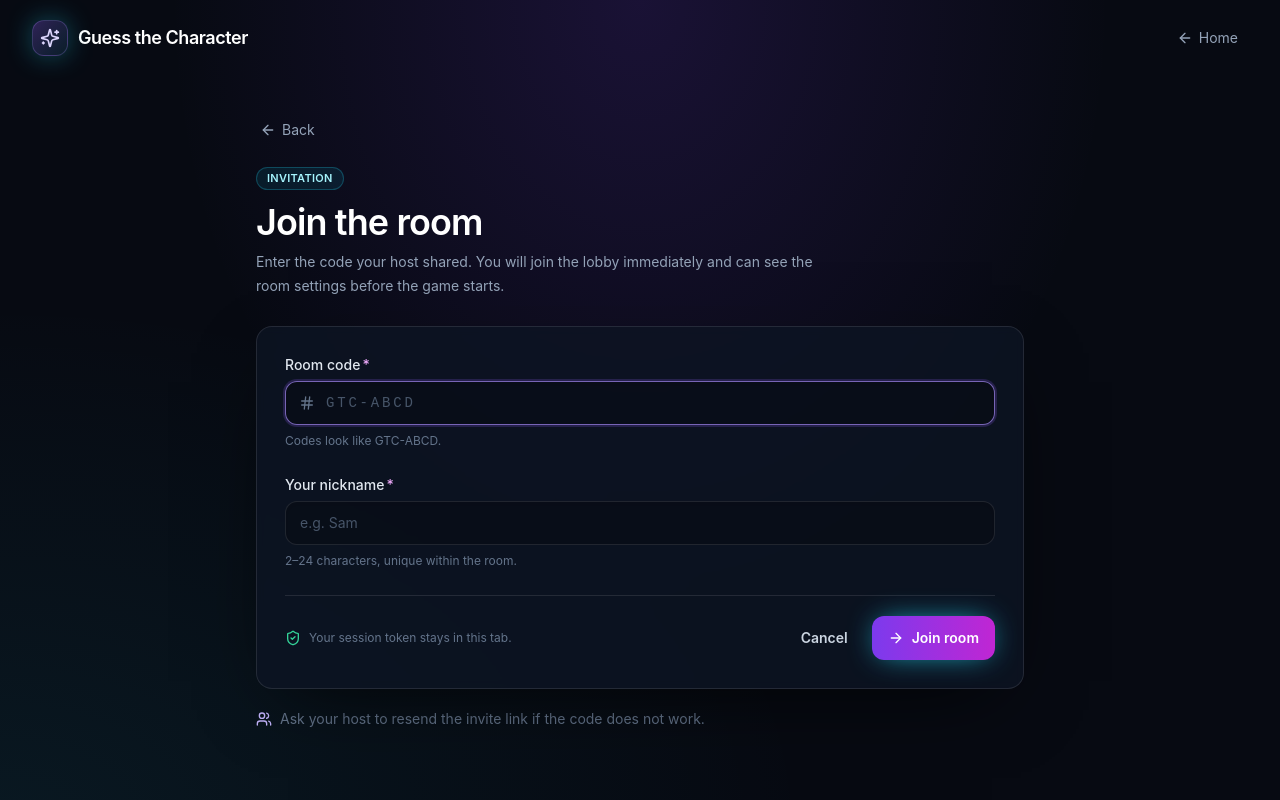
it: JoinRoomPage › requires a room code
Type "Sam" into the field labelled "Your nickname*".
click(640, 522); type("Sam")  # box [285, 500, 995, 544]
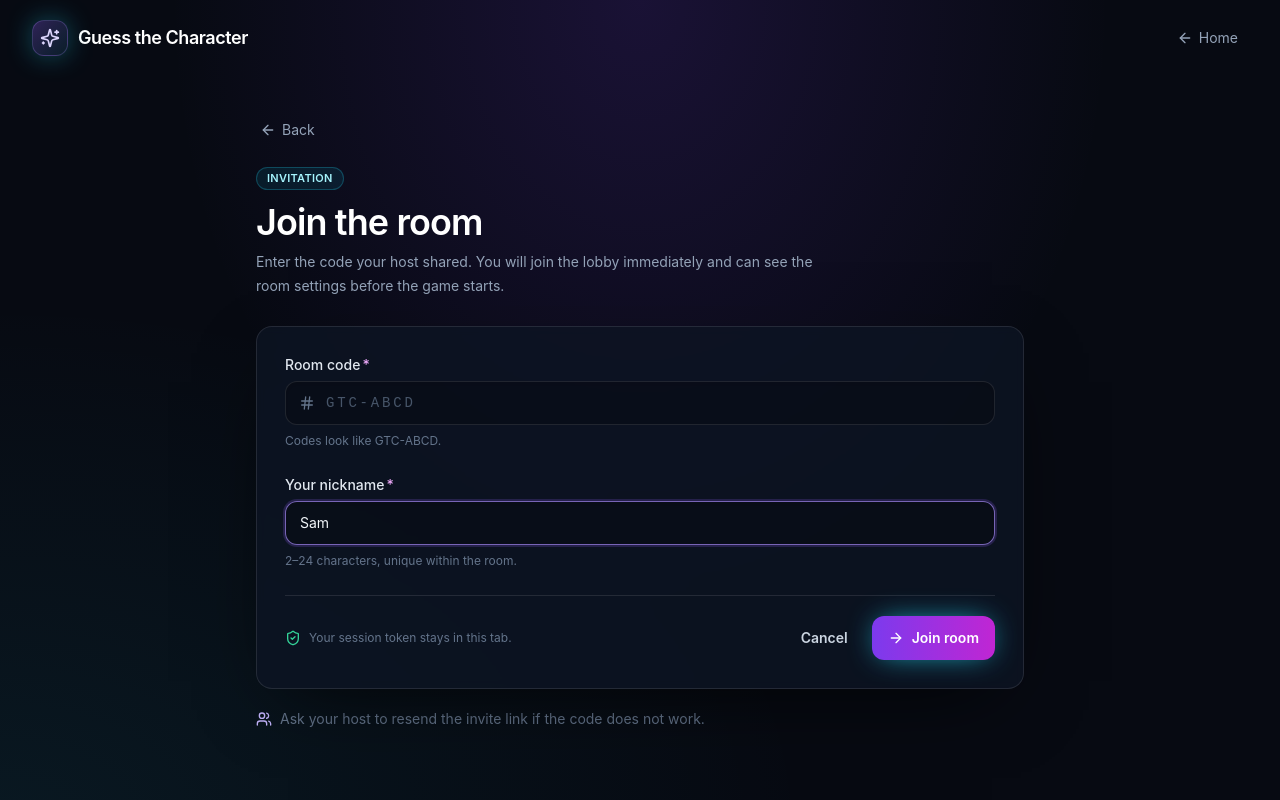
Click the button "Join room".
click(933, 638)  # box [872, 616, 995, 660]
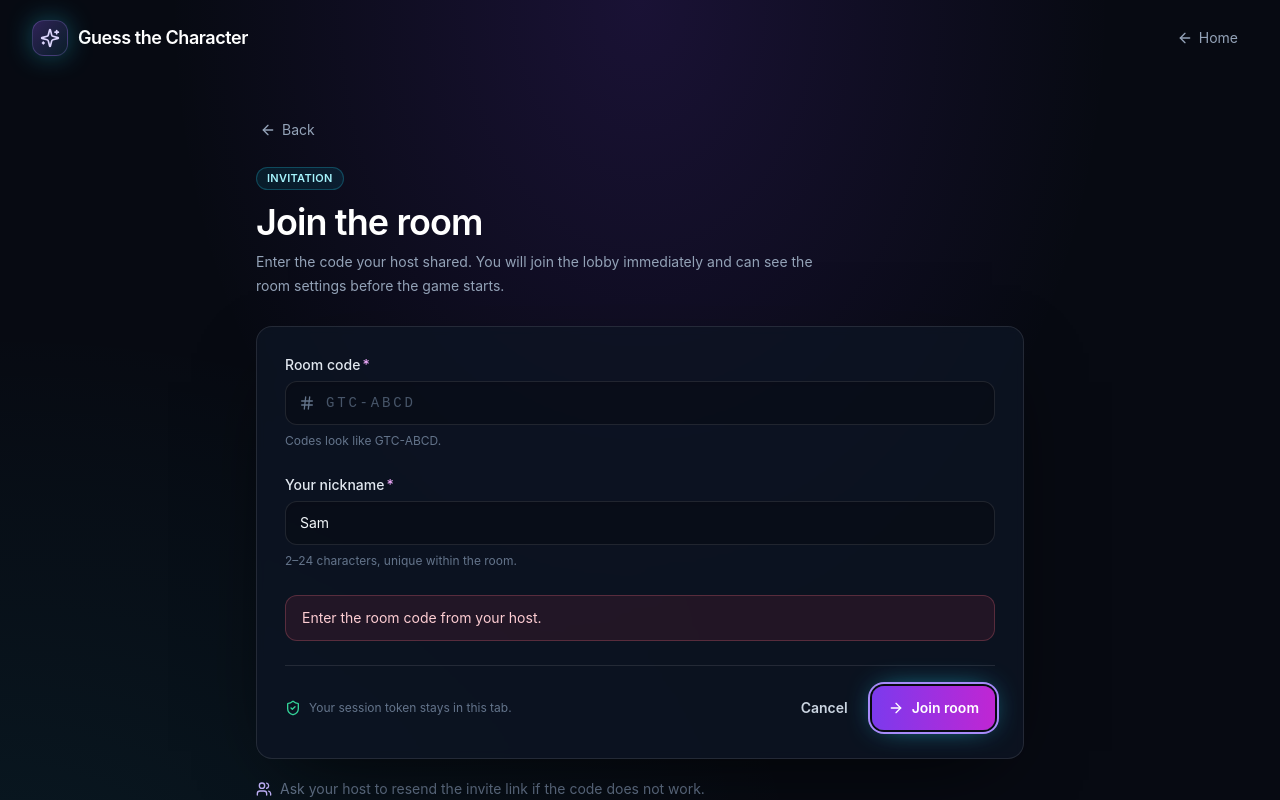
Result: the message shows "Enter the room code" at [302, 608, 542, 626]
